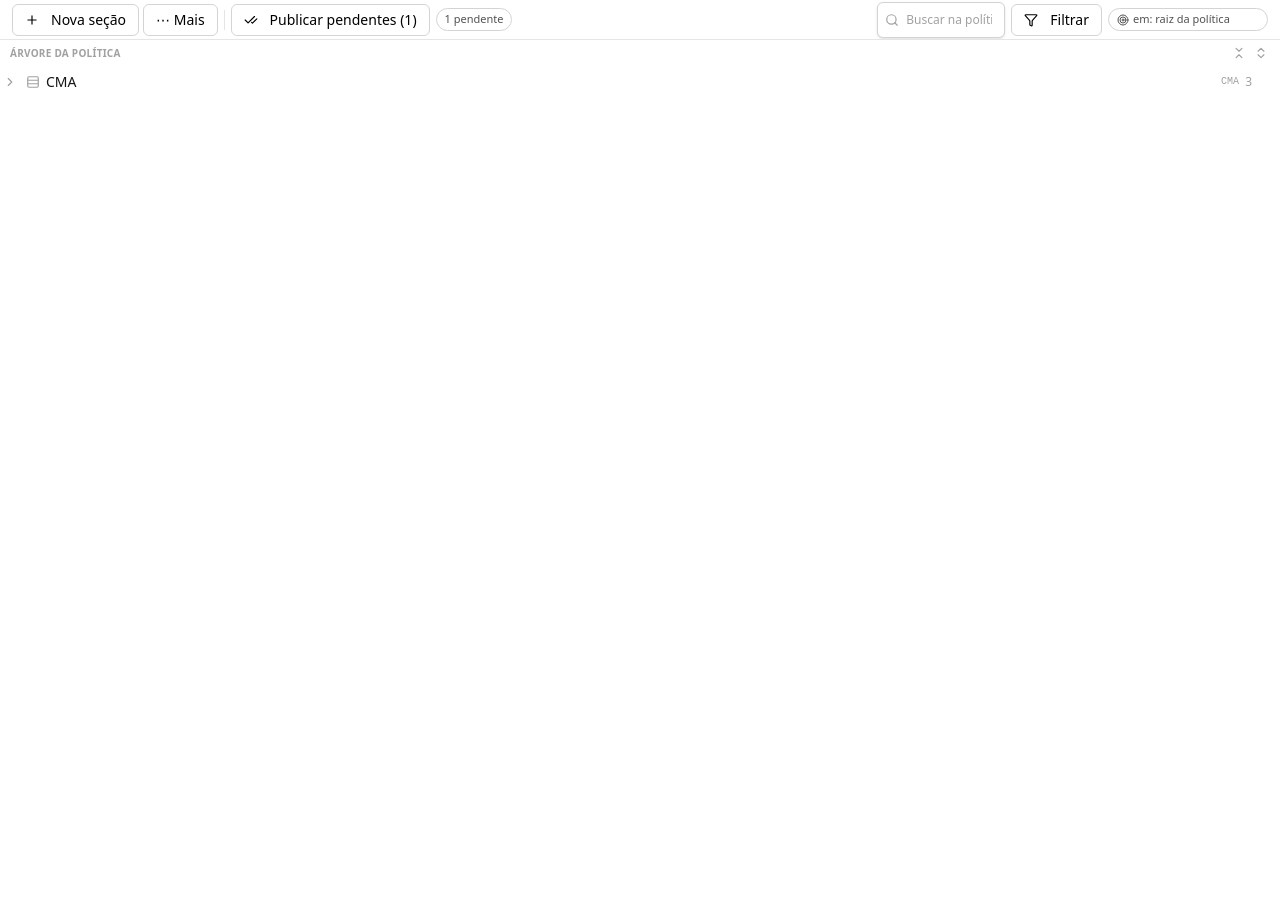
PolicyTree — pendentes: contador amplo e Ctrl+Shift+N (§2.1, S44) › clicar no contador abre o diálogo "Publicar pendentes"
The image size is (1280, 900).
Click the button with test id "policy-toolbar-pending-counter". click: (474, 20)
box: x1=436 y1=8 x2=512 y2=31
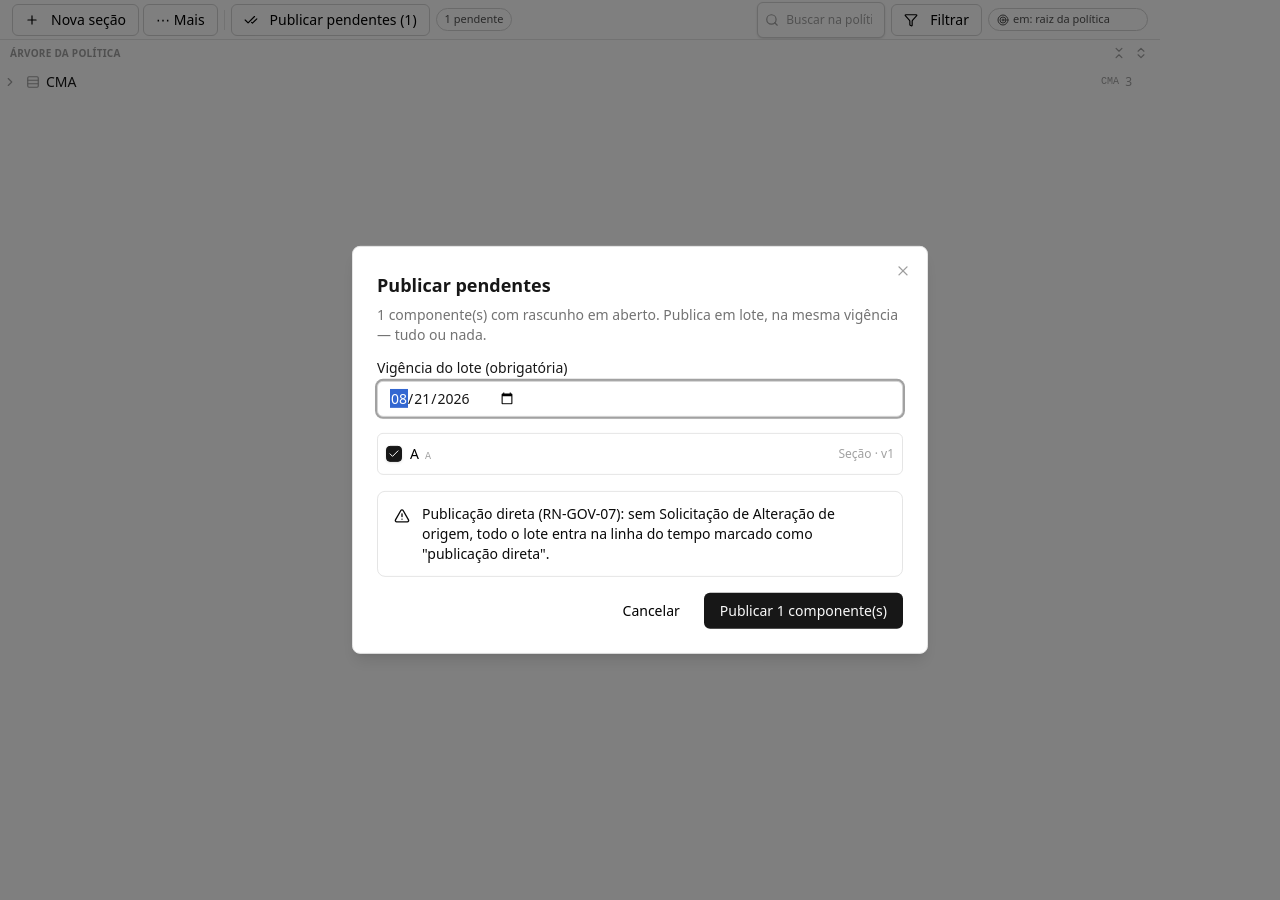
Now the dialog is shown, box x1=352 y1=246 x2=928 y2=654
